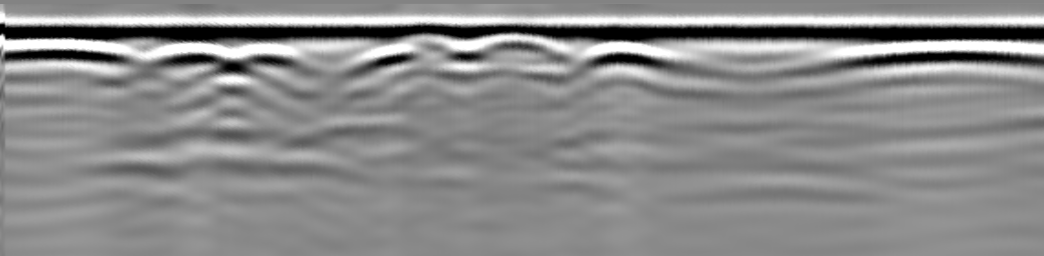pipe: (479, 24, 565, 54), (393, 22, 455, 46)
steel: (826, 43, 1044, 69), (152, 41, 304, 67), (4, 39, 132, 65), (583, 42, 667, 66)
